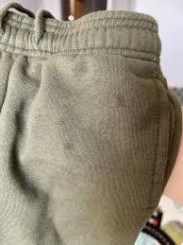oil: (62, 136, 75, 153)
